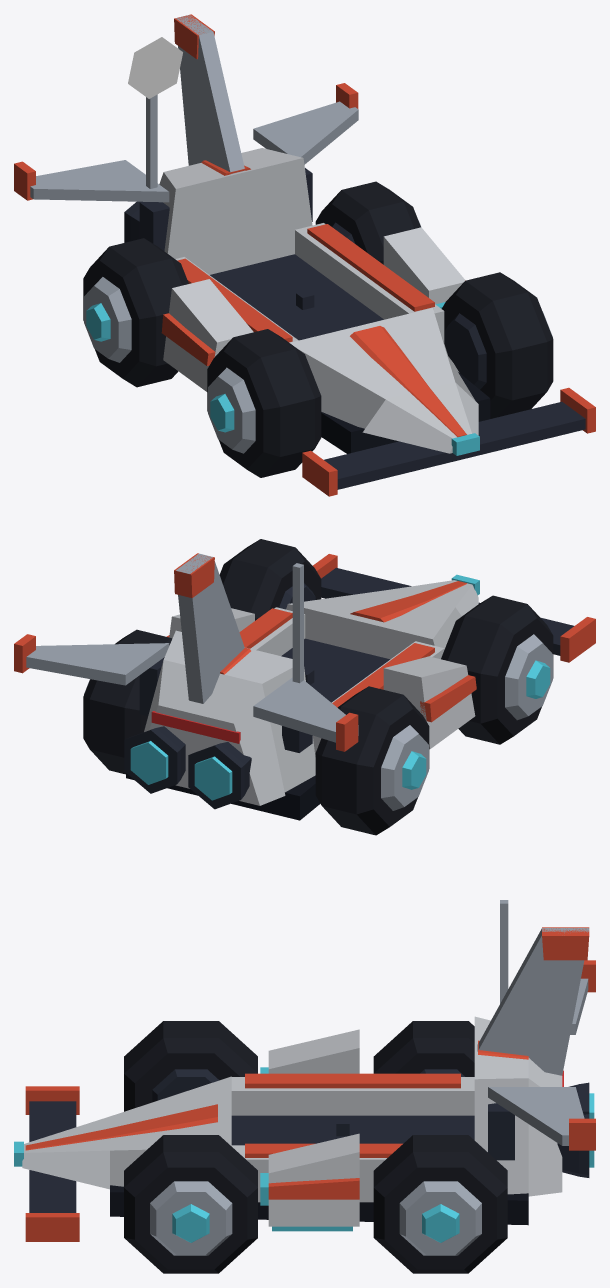
Rendered from kart-moon-balanced.glb.
3 renders of one model, top to bottom at view 1: azimuth 30°, elevation 25°; view 2: azimuth 150°, elevation 25°; view 3: azimuth 270°, elevation 25°, orthographic.
Visible parts, largest first — view 1: kart-moon-balanced, wheel-front-right, wheel-front-left, wheel-back-right, wheel-back-left; view 2: kart-moon-balanced, wheel-back-right, wheel-front-right, wheel-front-left, wheel-back-left; view 3: kart-moon-balanced, wheel-back-left, wheel-front-left, wheel-front-right, wheel-back-right.
Part boxes in pixels (x1=…): kart-moon-balanced: x1=14, y1=14, x2=595, y2=496; wheel-front-right: x1=207, y1=329, x2=321, y2=477; wheel-front-left: x1=442, y1=272, x2=553, y2=418; wheel-back-right: x1=83, y1=238, x2=188, y2=387; wheel-back-left: x1=315, y1=181, x2=421, y2=264; kart-moon-balanced: x1=14, y1=553, x2=595, y2=820; wheel-back-right: x1=315, y1=686, x2=429, y2=835; wheel-front-right: x1=441, y1=595, x2=553, y2=744; wheel-front-left: x1=219, y1=539, x2=321, y2=620; wheel-back-left: x1=83, y1=629, x2=171, y2=774; kart-moon-balanced: x1=14, y1=900, x2=595, y2=1241; wheel-back-left: x1=373, y1=1135, x2=507, y2=1273; wheel-front-left: x1=124, y1=1135, x2=257, y2=1273; wheel-front-right: x1=124, y1=1021, x2=257, y2=1111; wheel-back-right: x1=373, y1=1021, x2=474, y2=1076.
Size of the model in its own units: 1.14 by 1 by 1.72.
